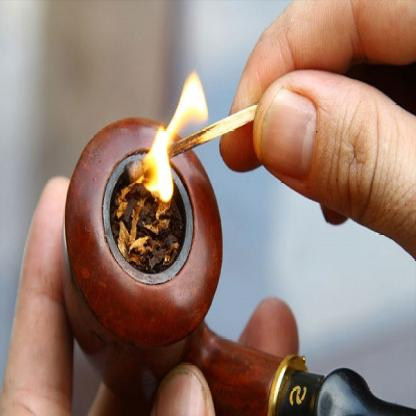fire: (134, 67, 218, 204)
